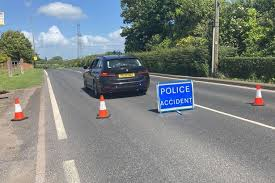car: (83, 57, 151, 97)
cone: (9, 98, 29, 121), (95, 95, 109, 122), (251, 85, 266, 108)
